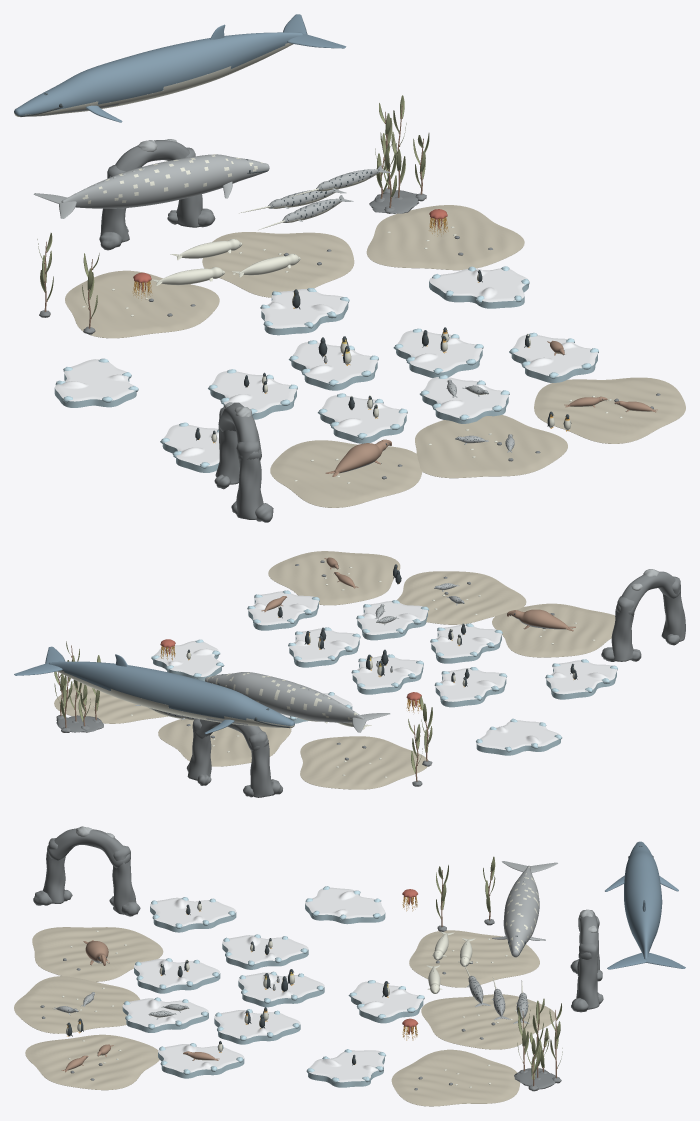
Rendered from ocean-giants-kit-polar-edge-51ea511c__39366.glb.
3 renders of one model, top to bottom at view 1: azimuth 30°, elevation 25°; view 2: azimuth 150°, elevation 25°; view 3: azimuth 270°, elevation 25°, orthographic. The views are drawn at different scales.
Parts seen in each view (by area): view 1: 057-fin-whale/0, 045-sand-bed/0, 043-sand-bed/0, 033-sand-bed/0, 034-sand-bed/0, 032-sand-bed/0, 056-grey-whale/0, 044-sand-bed/0, 042-rock-arch/0, 049-rock-arch/0, 029-ice-floe/0, 027-ice-floe/0 (+23 smaller); view 2: 057-fin-whale/0, 043-sand-bed/0, 034-sand-bed/0, 033-sand-bed/0, 032-sand-bed/0, 056-grey-whale/0, 042-rock-arch/0, 049-rock-arch/0, 044-sand-bed/0, 045-sand-bed/0, 029-ice-floe/0, 024-ice-floe/0 (+21 smaller); view 3: 045-sand-bed/0, 034-sand-bed/0, 032-sand-bed/0, 033-sand-bed/0, 044-sand-bed/0, 043-sand-bed/0, 057-fin-whale/0, 042-rock-arch/0, 056-grey-whale/0, 049-rock-arch/0, 029-ice-floe/0, 027-ice-floe/0 (+21 smaller).
Boxes of the visible parts, bbox=[...] form: 057-fin-whale/0: bbox=[14, 14, 345, 122]; 045-sand-bed/0: bbox=[366, 205, 524, 270]; 043-sand-bed/0: bbox=[65, 270, 219, 338]; 033-sand-bed/0: bbox=[415, 415, 567, 478]; 034-sand-bed/0: bbox=[534, 377, 685, 443]; 032-sand-bed/0: bbox=[270, 440, 422, 507]; 056-grey-whale/0: bbox=[33, 154, 269, 218]; 044-sand-bed/0: bbox=[202, 232, 354, 297]; 042-rock-arch/0: bbox=[214, 402, 273, 522]; 049-rock-arch/0: bbox=[99, 140, 215, 250]; 029-ice-floe/0: bbox=[55, 359, 134, 401]; 027-ice-floe/0: bbox=[429, 268, 527, 302]; 057-fin-whale/0: bbox=[14, 646, 294, 734]; 043-sand-bed/0: bbox=[300, 736, 428, 789]; 034-sand-bed/0: bbox=[268, 551, 400, 605]; 033-sand-bed/0: bbox=[397, 571, 526, 624]; 032-sand-bed/0: bbox=[492, 603, 615, 657]; 056-grey-whale/0: bbox=[205, 672, 390, 732]; 042-rock-arch/0: bbox=[601, 571, 685, 661]; 049-rock-arch/0: bbox=[186, 718, 282, 797]; 044-sand-bed/0: bbox=[158, 719, 291, 766]; 045-sand-bed/0: bbox=[54, 681, 167, 723]; 029-ice-floe/0: bbox=[477, 720, 560, 749]; 024-ice-floe/0: bbox=[546, 660, 616, 694]; 045-sand-bed/0: bbox=[391, 1049, 520, 1106]; 034-sand-bed/0: bbox=[25, 1034, 159, 1090]; 032-sand-bed/0: bbox=[32, 927, 163, 981]; 033-sand-bed/0: bbox=[14, 976, 139, 1033]; 044-sand-bed/0: bbox=[421, 994, 556, 1049]; 043-sand-bed/0: bbox=[409, 930, 539, 987]; 057-fin-whale/0: bbox=[605, 841, 685, 969]; 042-rock-arch/0: bbox=[33, 828, 140, 916]; 056-grey-whale/0: bbox=[492, 861, 557, 957]; 049-rock-arch/0: bbox=[570, 910, 603, 1012]; 029-ice-floe/0: bbox=[305, 887, 385, 918]; 027-ice-floe/0: bbox=[309, 1050, 384, 1082].
Bounding box in the file's own units: 31.48 × 9.27 × 41.8.
